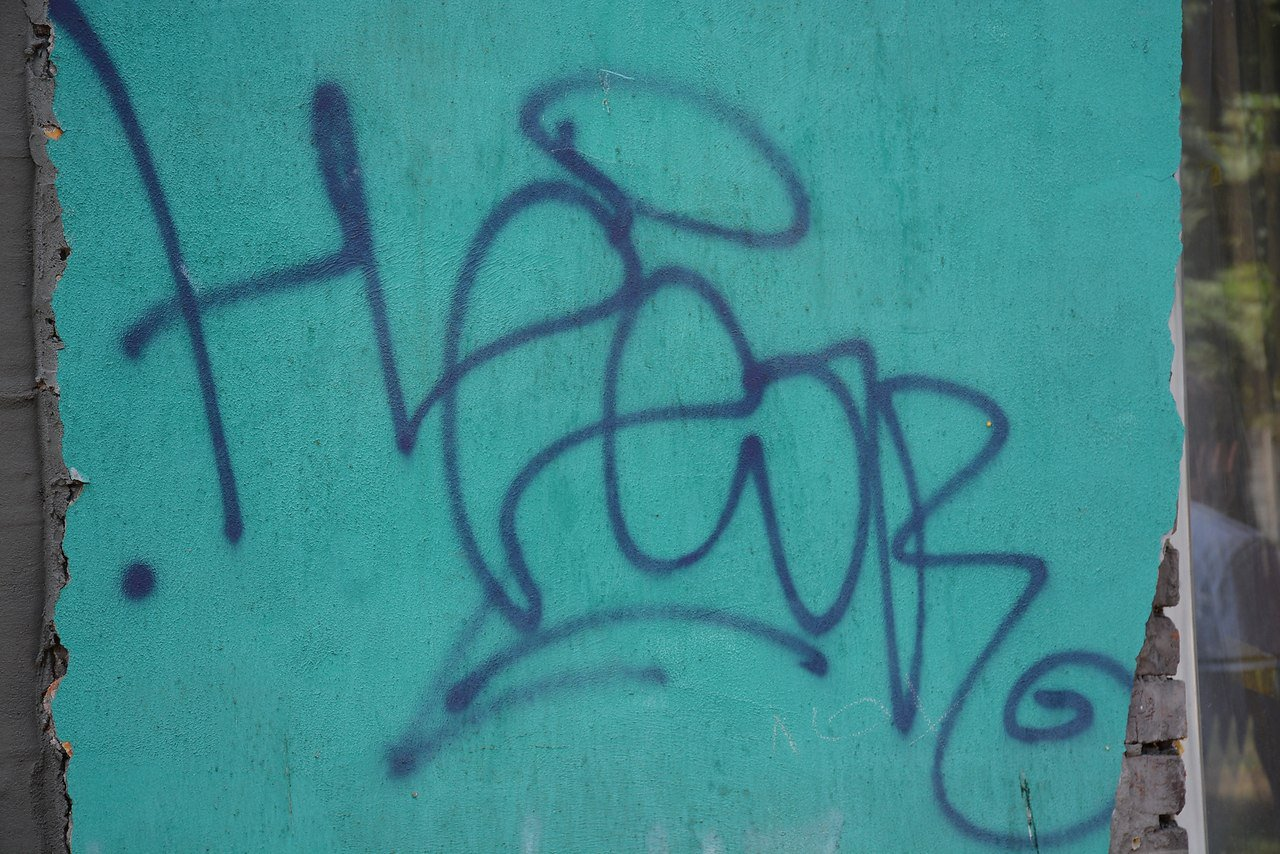graphite: (81, 39, 1159, 840)
